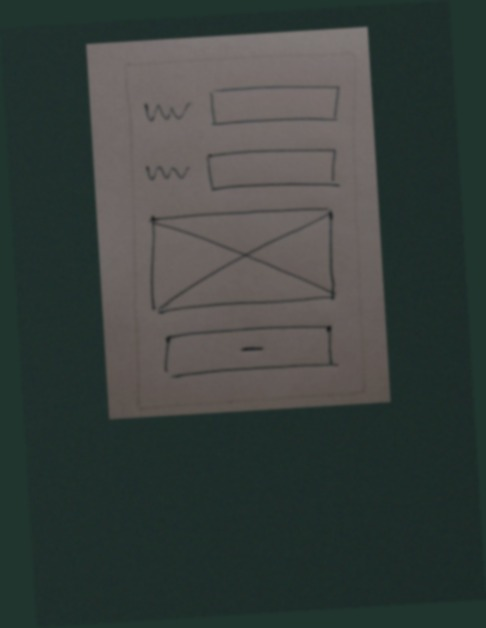button: (158, 319, 346, 382)
image: (142, 200, 341, 318)
text: (138, 93, 196, 128), (140, 156, 194, 192)
text_input: (204, 76, 347, 136), (201, 140, 344, 198)
